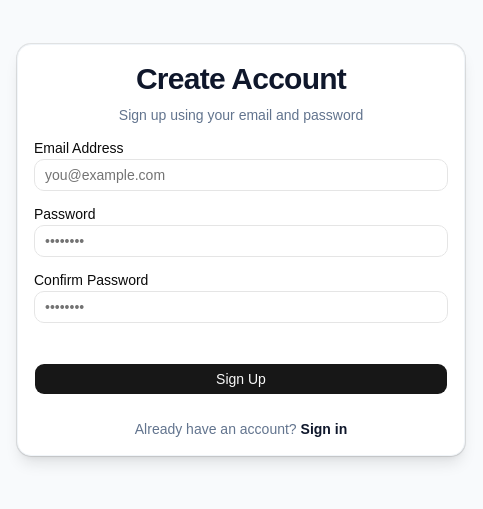
Signup Component › should display an error if password mismatch occurs
This screenshot has width=483, height=509.
Type "vigbi@abc.com" into the field labelled "Email Address" at (241, 175), box [34,159,448,191]
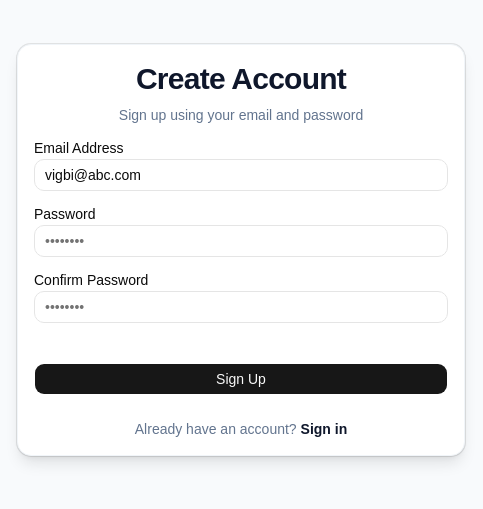
Type "qwerty" into the password field labelled "Password" at (241, 241), box [34,225,448,257]
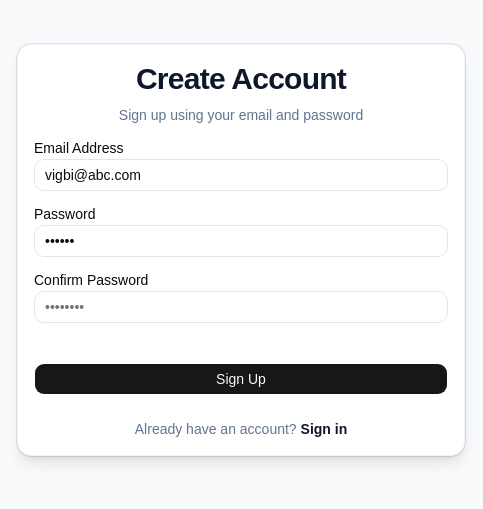
Type "qqqqqq" into the password field labelled "Confirm Password" at (241, 307), box [34,291,448,323]
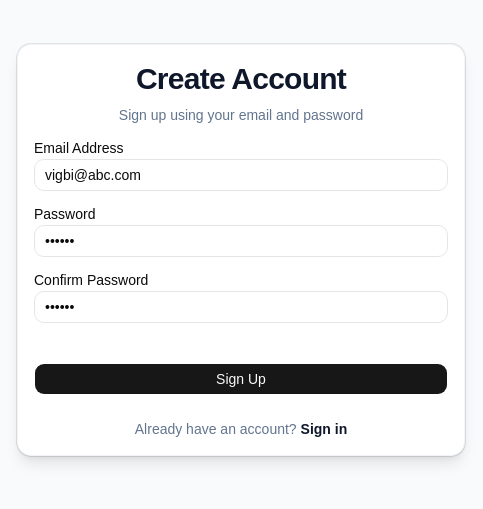
Submit the form from the button "Sign Up", box [34,363,448,395]
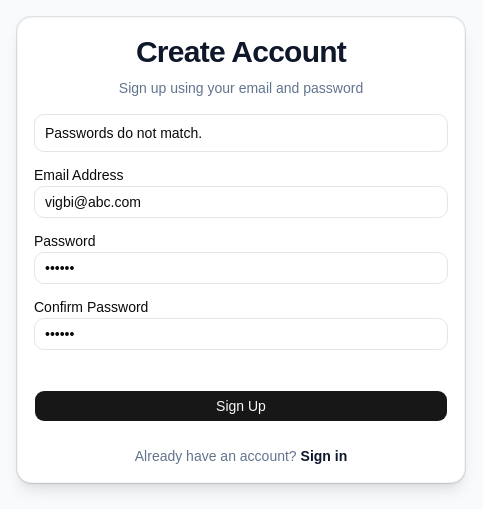
Now the message shows "do not match", box [45,125,202,141]
